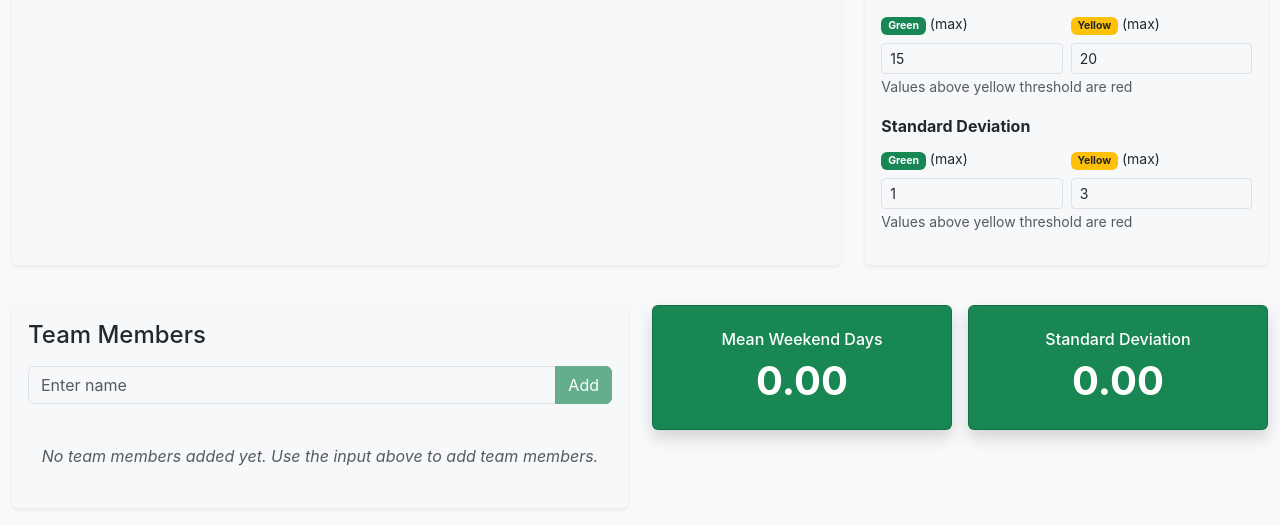
Test: App › localStorage functionality › stores multiple team members in localStorage
(page scrolled)
// Add multiple team members
Type "Alice" into the field with placeholder "Enter name". click: (292, 385)
box: [28,366,556,404]
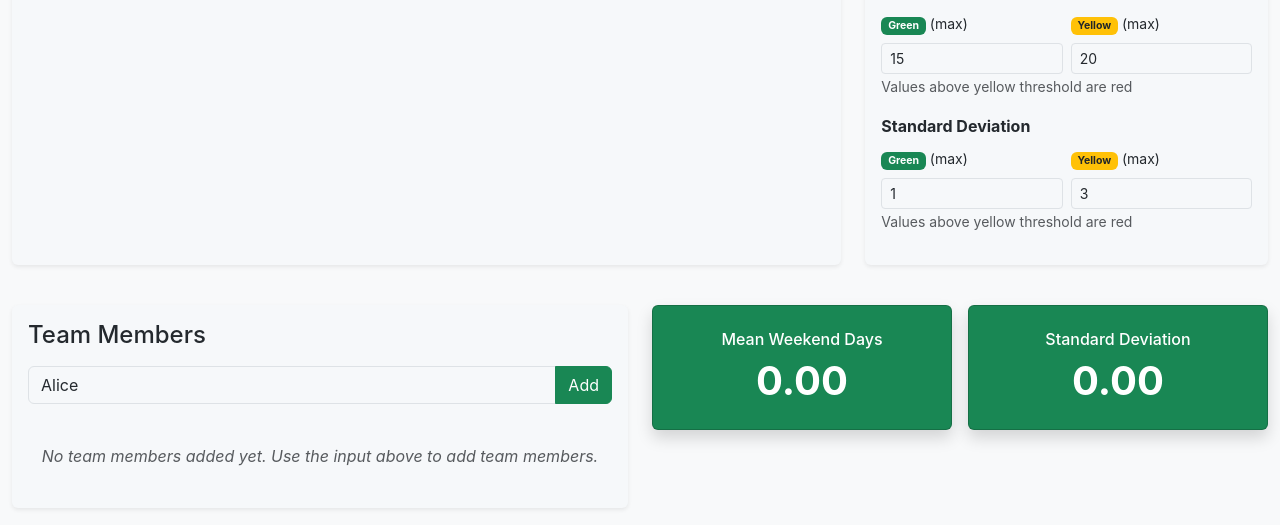
Click the button "Add". click: (584, 385)
box: [555,366,612,404]
(page scrolled)
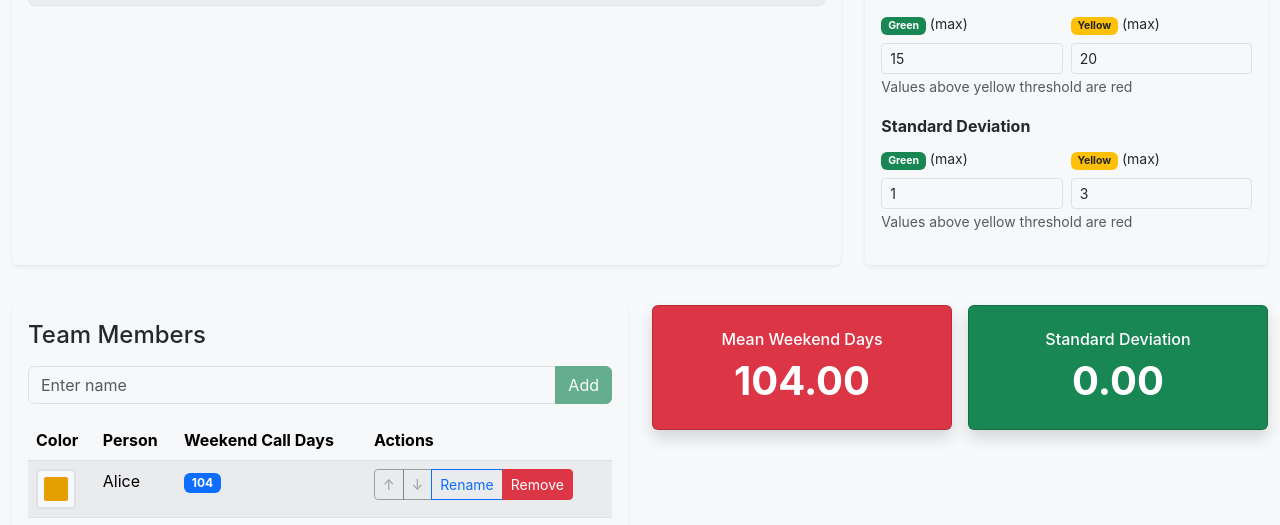
Type "Bob" into the field with placeholder "Enter name". click: (292, 385)
box: [28,366,556,404]
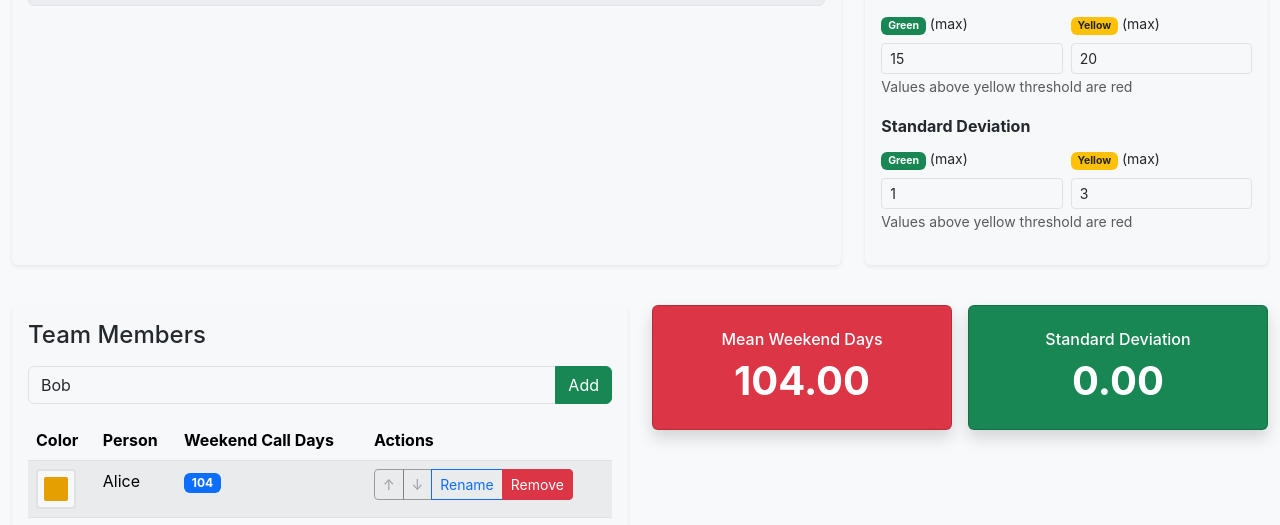
Click the button "Add". click: (584, 385)
box: [555,366,612,404]
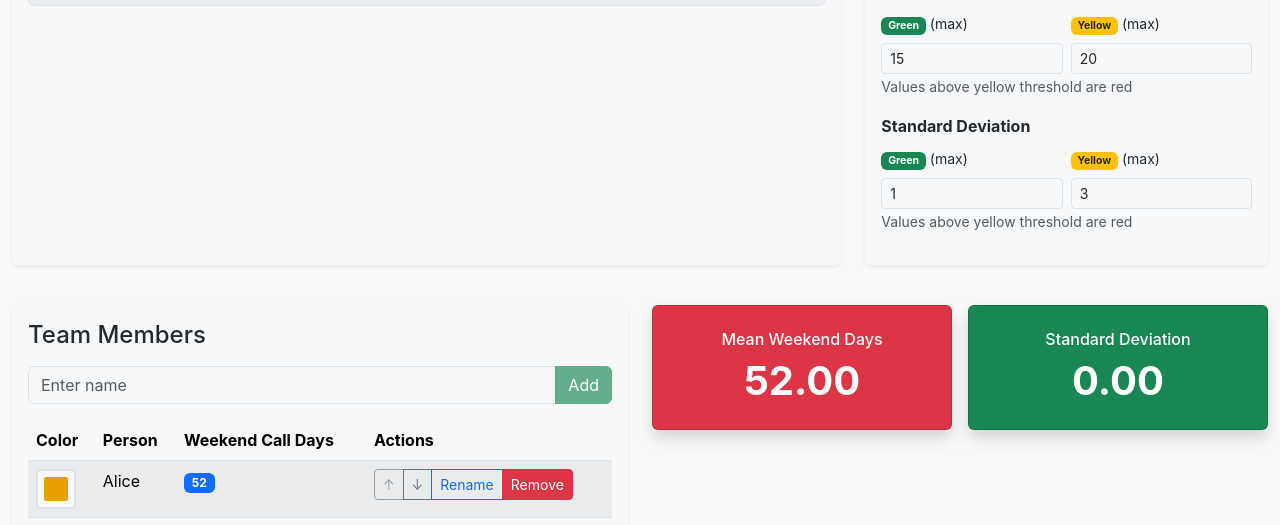
Type "Charlie" into the field with placeholder "Enter name". click: (292, 385)
box: [28,366,556,404]
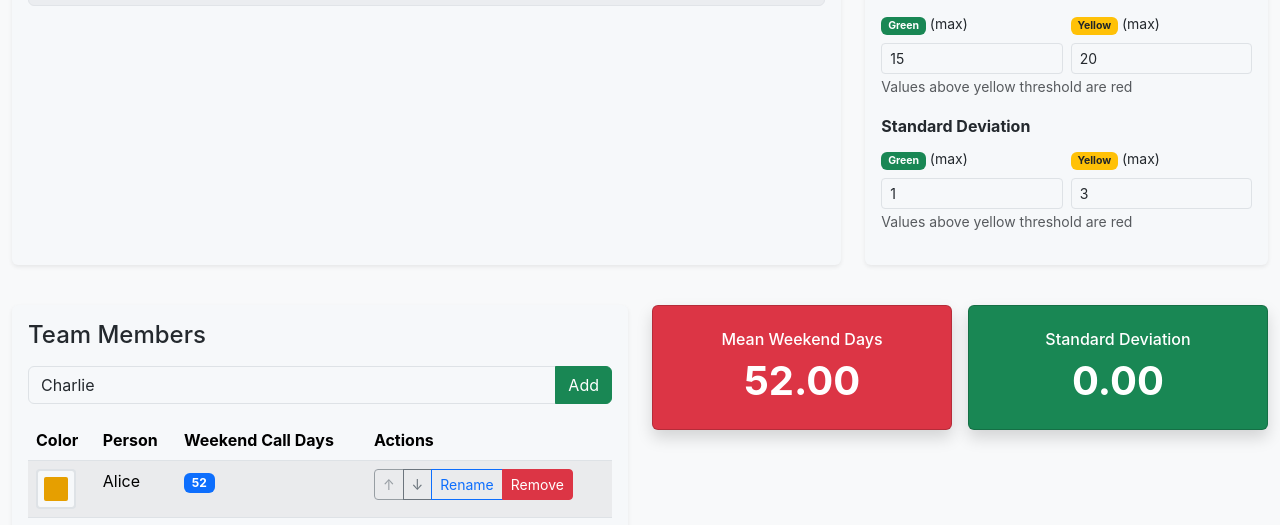
Click the button "Add". click: (584, 385)
box: [555,366,612,404]
(page scrolled)
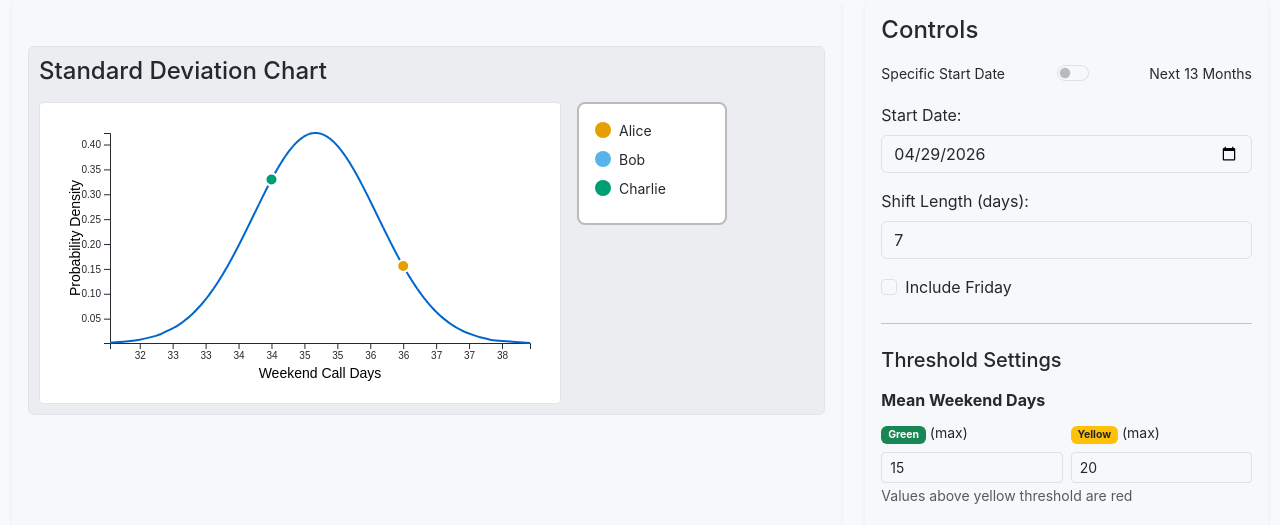
Now the text "Alice" is shown, box [619,120,652,141]
Now the text "Bob" is shown, box [619,149,645,170]
Now the text "Charlie" is shown, box [619,178,666,199]
